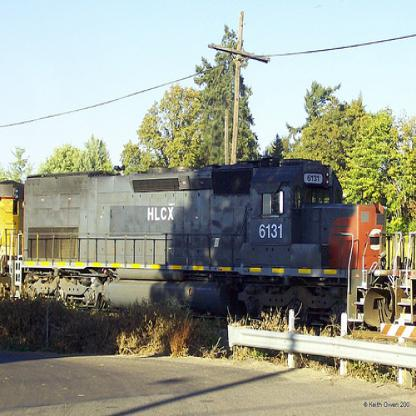train: (0, 155, 395, 328)
